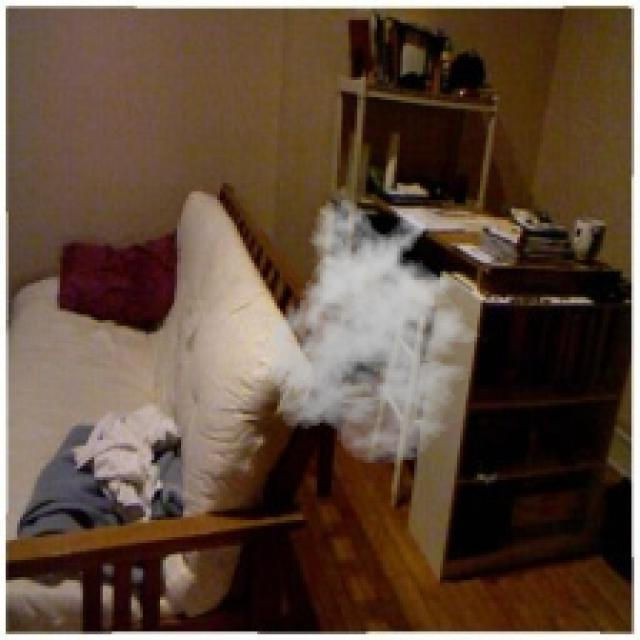smoke: (252, 197, 492, 466)
